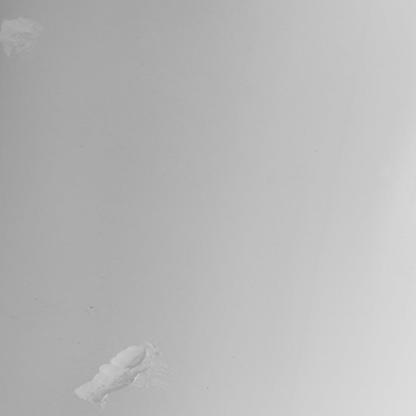sunshang: (70, 333, 162, 407), (1, 13, 45, 58)
